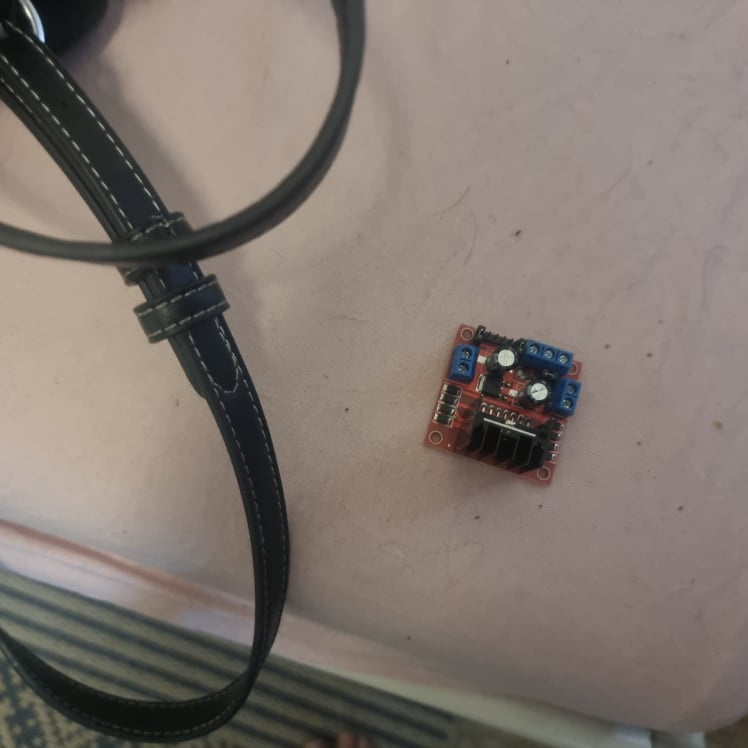MOTOR: (421, 322, 585, 489)
